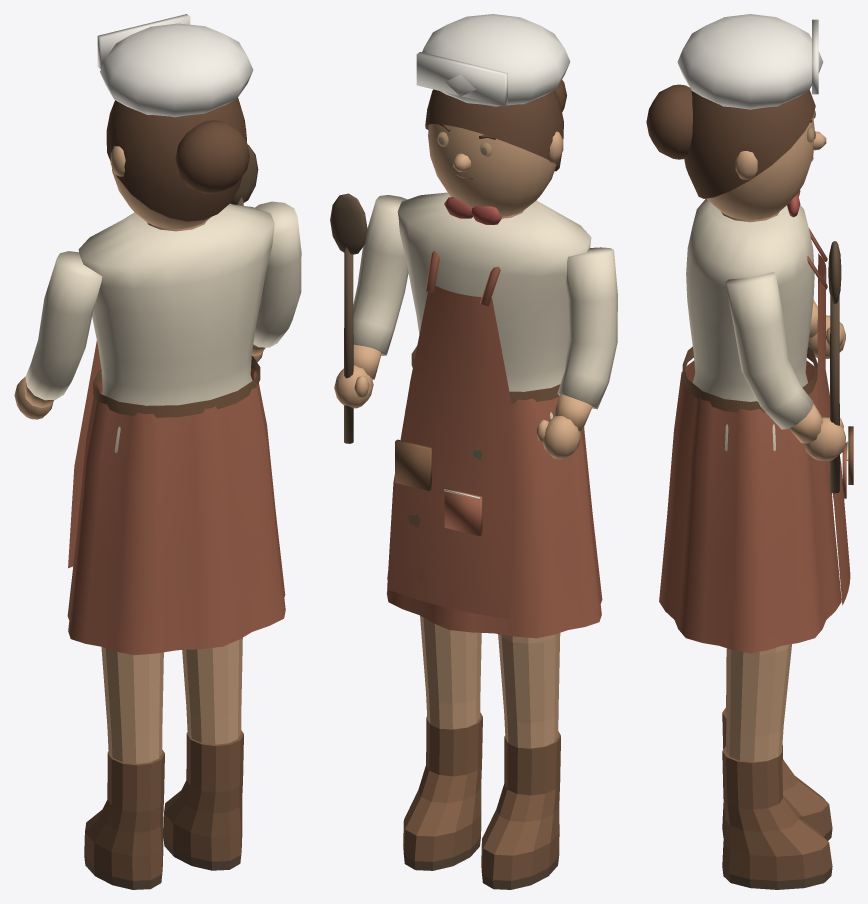
File: SM_NPC_CHEF.glb
The picture shows the model from 3 angles, left to right: view 1: azimuth 30°, elevation 25°; view 2: azimuth 150°, elevation 25°; view 3: azimuth 270°, elevation 25°; orthographic projection.
Parts seen in each view (by area): view 1: SM_NPC_CHEF_BODY, SM_NPC_CHEF_HAIR, SM_NPC_CHEF_LEG_L, SM_NPC_CHEF_LEG_R, SM_NPC_CHEF_ARM_L, SM_NPC_CHEF_ARM_R, SM_NPC_CHEF_HEAD; view 2: SM_NPC_CHEF_BODY, SM_NPC_CHEF_HAIR, SM_NPC_CHEF_LEG_L, SM_NPC_CHEF_LEG_R, SM_NPC_CHEF_ARM_R, SM_NPC_CHEF_ARM_L, SM_NPC_CHEF_HEAD; view 3: SM_NPC_CHEF_BODY, SM_NPC_CHEF_HAIR, SM_NPC_CHEF_LEG_R, SM_NPC_CHEF_ARM_R, SM_NPC_CHEF_HEAD, SM_NPC_CHEF_LEG_L, SM_NPC_CHEF_ARM_L.
Part boxes in pixels (box(x1,y1,x2,y2)): SM_NPC_CHEF_BODY: box(67, 204, 285, 655); SM_NPC_CHEF_HAIR: box(97, 14, 253, 221); SM_NPC_CHEF_LEG_L: box(84, 646, 164, 889); SM_NPC_CHEF_LEG_R: box(163, 637, 243, 870); SM_NPC_CHEF_ARM_L: box(14, 251, 102, 419); SM_NPC_CHEF_ARM_R: box(230, 145, 301, 362); SM_NPC_CHEF_HEAD: box(110, 129, 246, 228); SM_NPC_CHEF_BODY: box(386, 192, 602, 638); SM_NPC_CHEF_HAIR: box(416, 14, 570, 171); SM_NPC_CHEF_LEG_L: box(481, 633, 560, 889); SM_NPC_CHEF_LEG_R: box(403, 615, 482, 870); SM_NPC_CHEF_ARM_R: box(330, 193, 408, 443); SM_NPC_CHEF_ARM_L: box(536, 247, 617, 459); SM_NPC_CHEF_HEAD: box(428, 124, 563, 216); SM_NPC_CHEF_BODY: box(659, 190, 853, 653); SM_NPC_CHEF_HAIR: box(646, 14, 823, 198); SM_NPC_CHEF_LEG_R: box(722, 644, 832, 889); SM_NPC_CHEF_ARM_R: box(725, 241, 845, 493); SM_NPC_CHEF_HEAD: box(707, 117, 826, 219); SM_NPC_CHEF_LEG_L: box(722, 657, 832, 840); SM_NPC_CHEF_ARM_L: box(808, 300, 845, 358).
Size of the model in its own units: 0.6008 by 1.86 by 0.4214.
